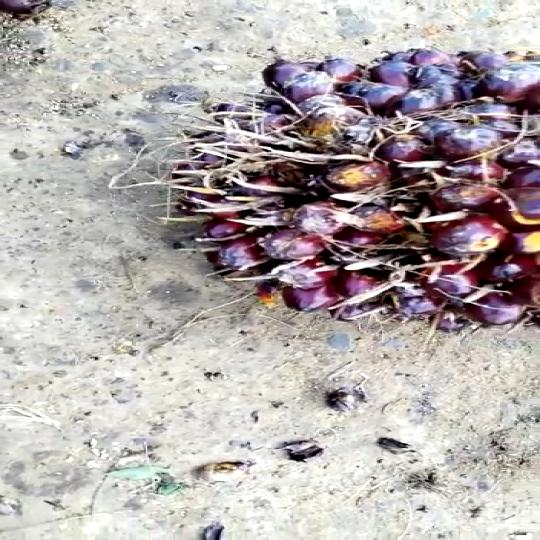kurang masak: (173, 57, 540, 331)
